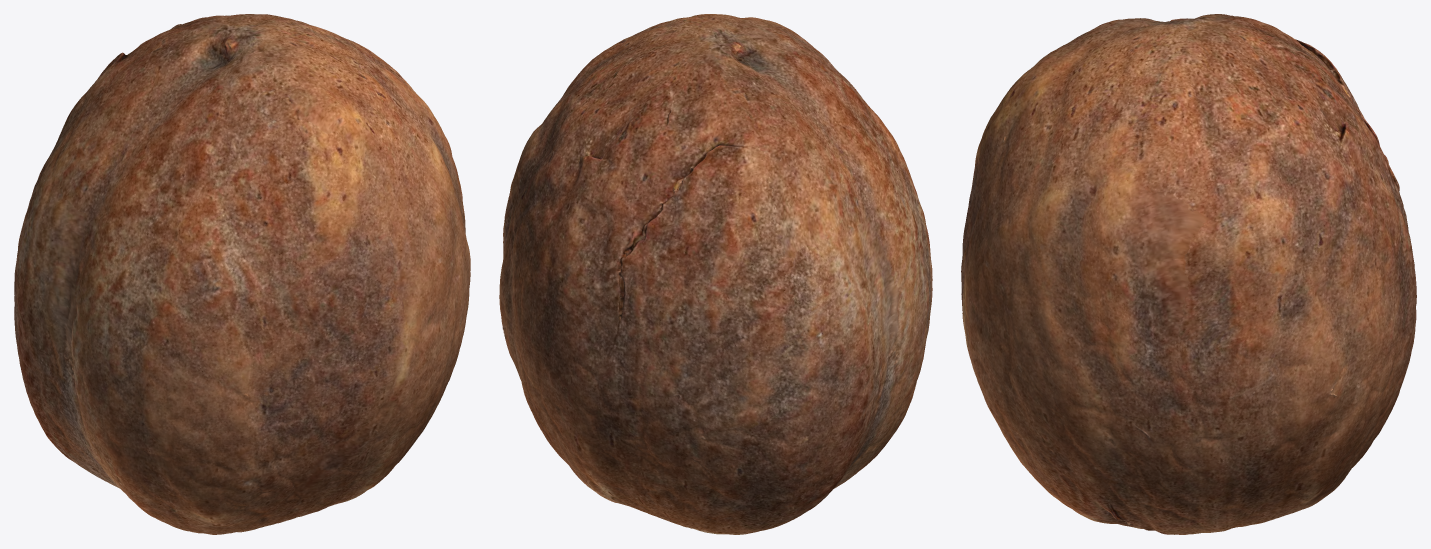
The model's file is pala.glb.
3 views of the same model, side by side, from view 1: azimuth 30°, elevation 25°; view 2: azimuth 150°, elevation 25°; view 3: azimuth 270°, elevation 25° (orthographic). The views are drawn at different scales.
Visible parts, largest first — view 1: Model_material0_0; view 2: Model_material0_0; view 3: Model_material0_0.
Boxes of the visible parts, x1,y1,x2,y2 form: Model_material0_0: (14,14,470,534); Model_material0_0: (499,14,932,534); Model_material0_0: (961,14,1416,534).
Size of the model in its own units: 0.9381 by 1.15 by 0.9438.
Materials: 1 (1 with a texture image).
